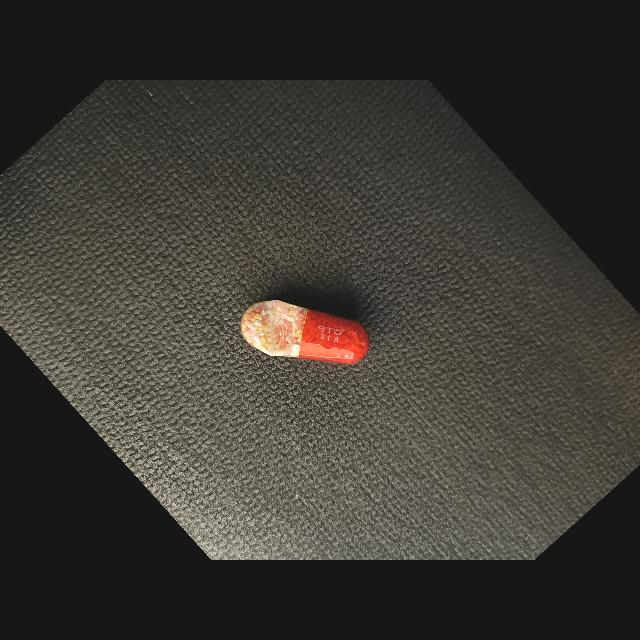Defective Capsule: (241, 300, 370, 365)
